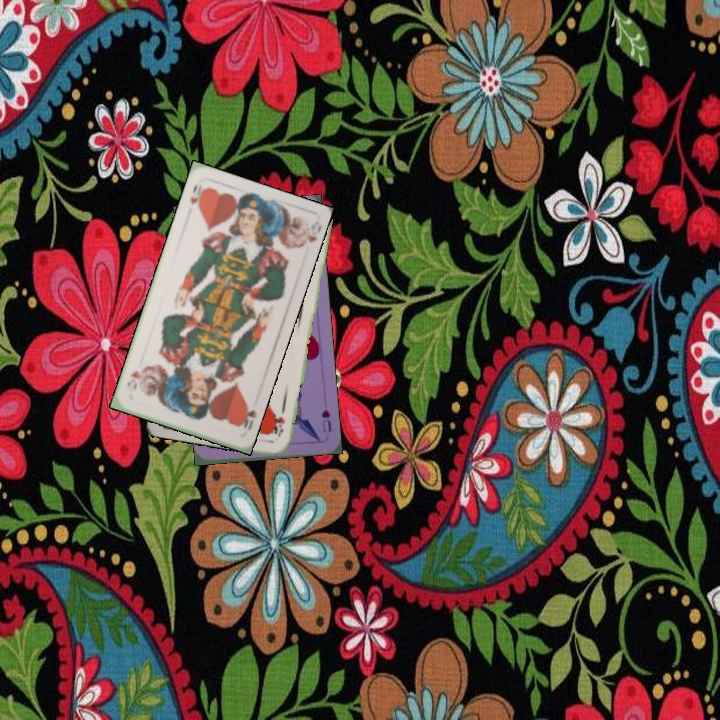HO: (234, 399, 259, 433), (271, 401, 288, 439), (186, 180, 205, 212)
HU: (317, 405, 334, 435)
